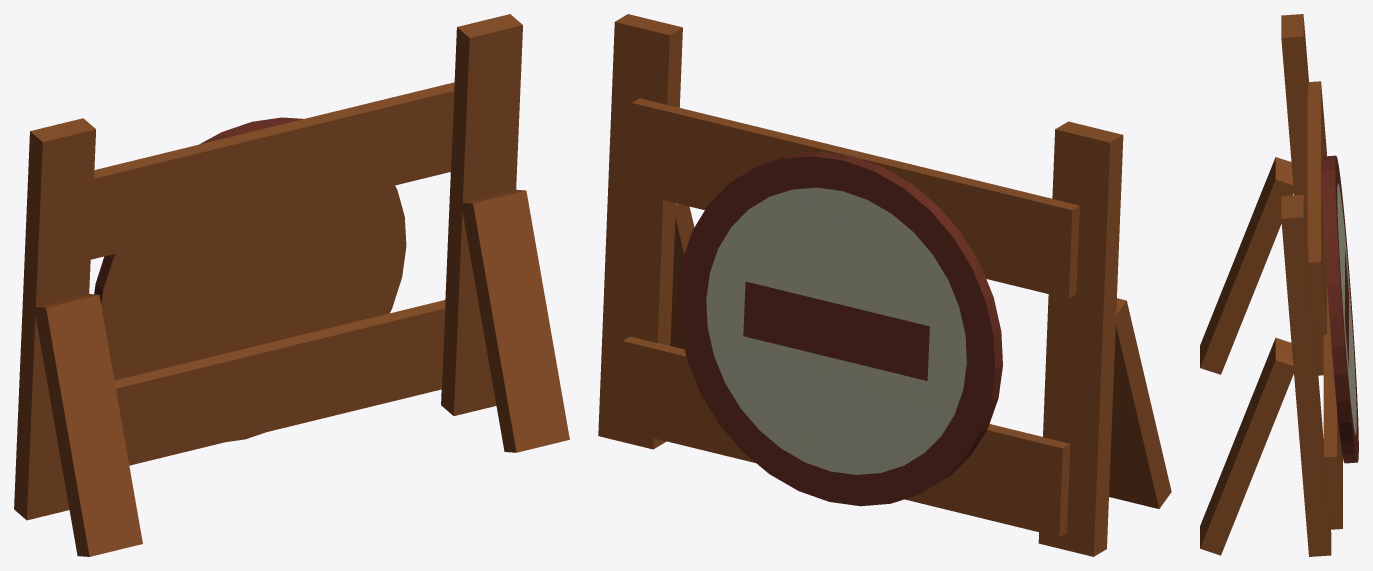
Rendered from JumpObstacle.fbx.
The picture shows the model from 3 angles, left to right: view 1: azimuth 30°, elevation 25°; view 2: azimuth 150°, elevation 25°; view 3: azimuth 270°, elevation 25°; orthographic projection. The views are drawn at different scales.
Visible parts, largest first — view 1: Circle; view 2: Circle; view 3: Circle.
Boxes of the visible parts, x1,y1,x2,y2 form: Circle: (14,14,569,556); Circle: (598,14,1171,556); Circle: (1200,14,1358,556).
Size of the model in its own units: 180 by 140 by 59.44.
